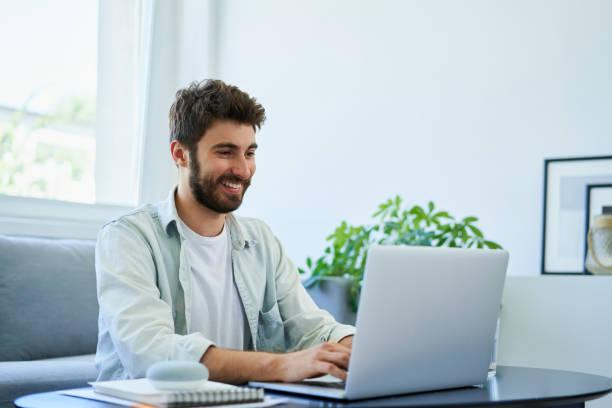Good Sitting Posture: (59, 64, 430, 399)
